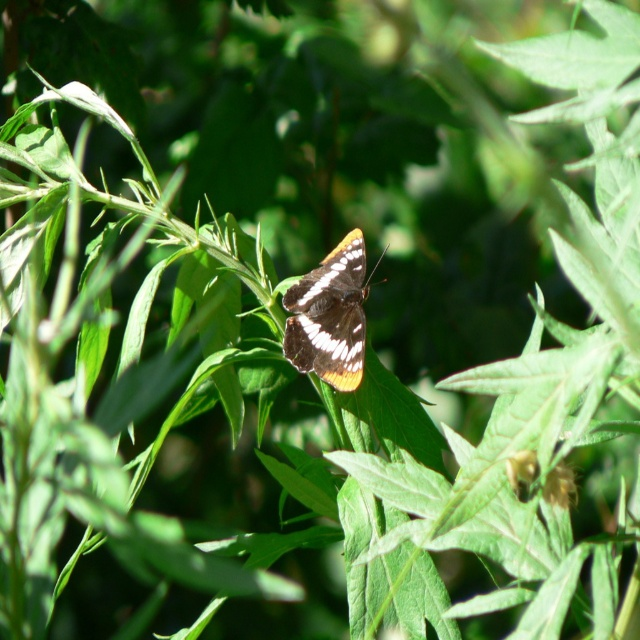Butterfly: (271, 228, 384, 397)
